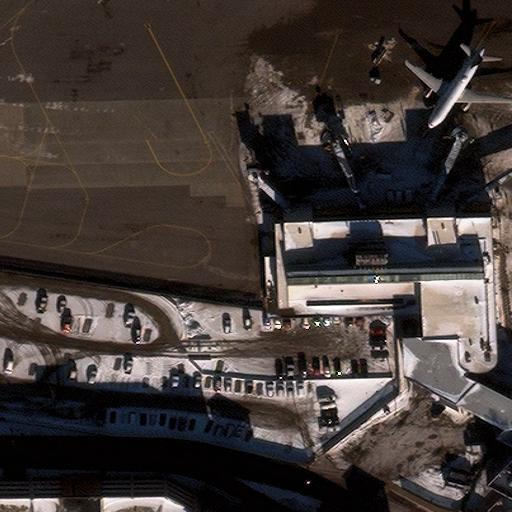Medium Civil Transport: (404, 47, 511, 129)
